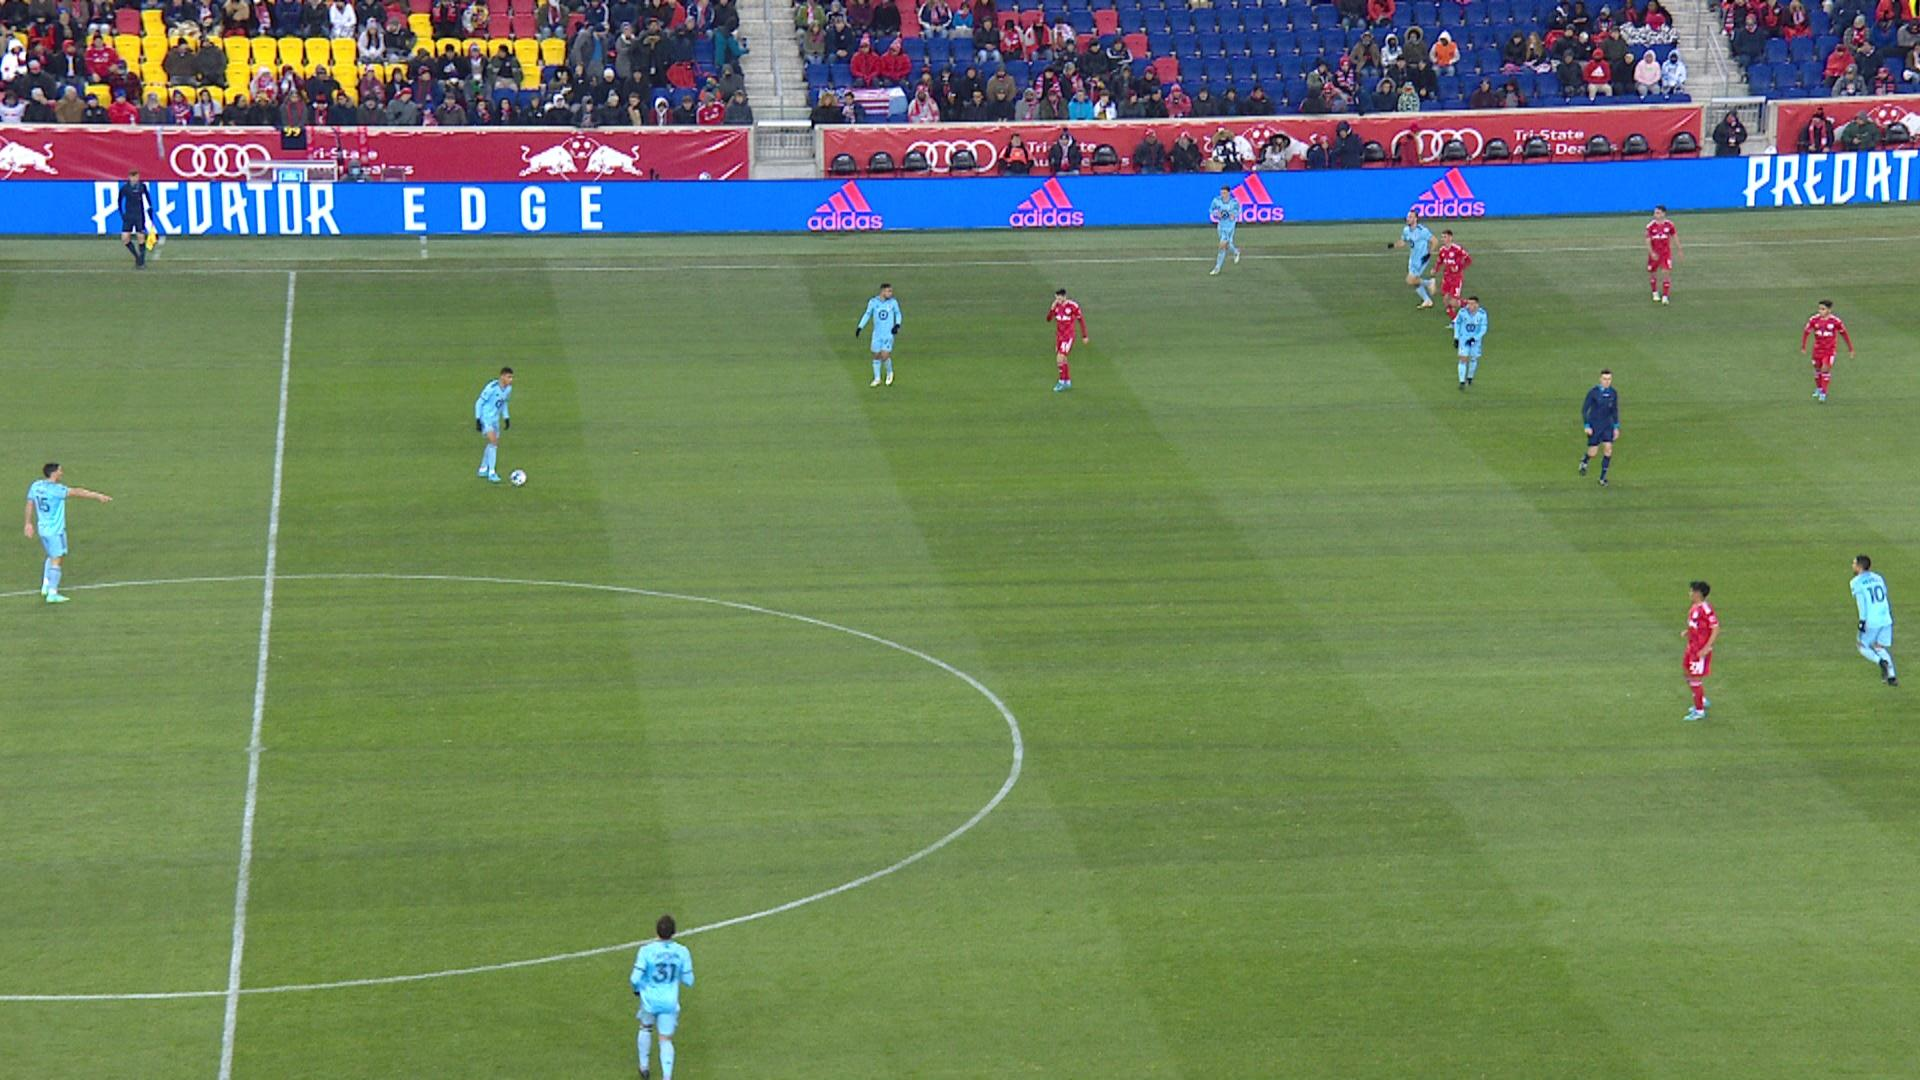football: (509, 467, 529, 488)
